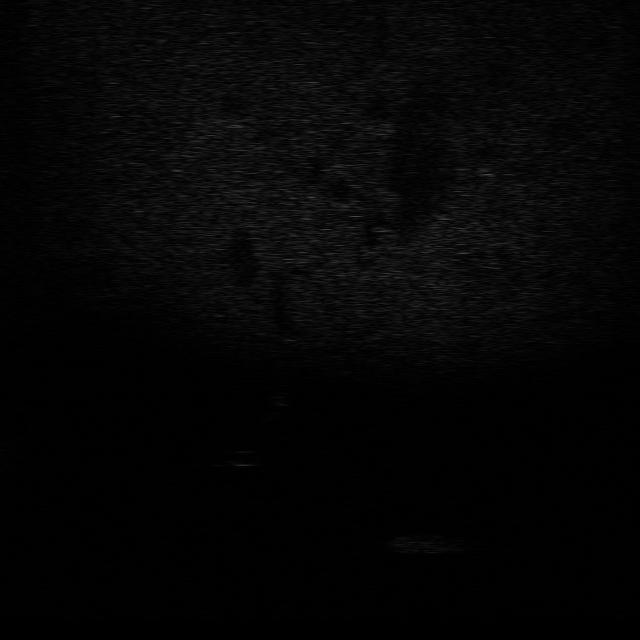ball: (216, 444, 262, 472)
circle cage: (386, 528, 476, 558)
human body: (255, 372, 296, 427)
